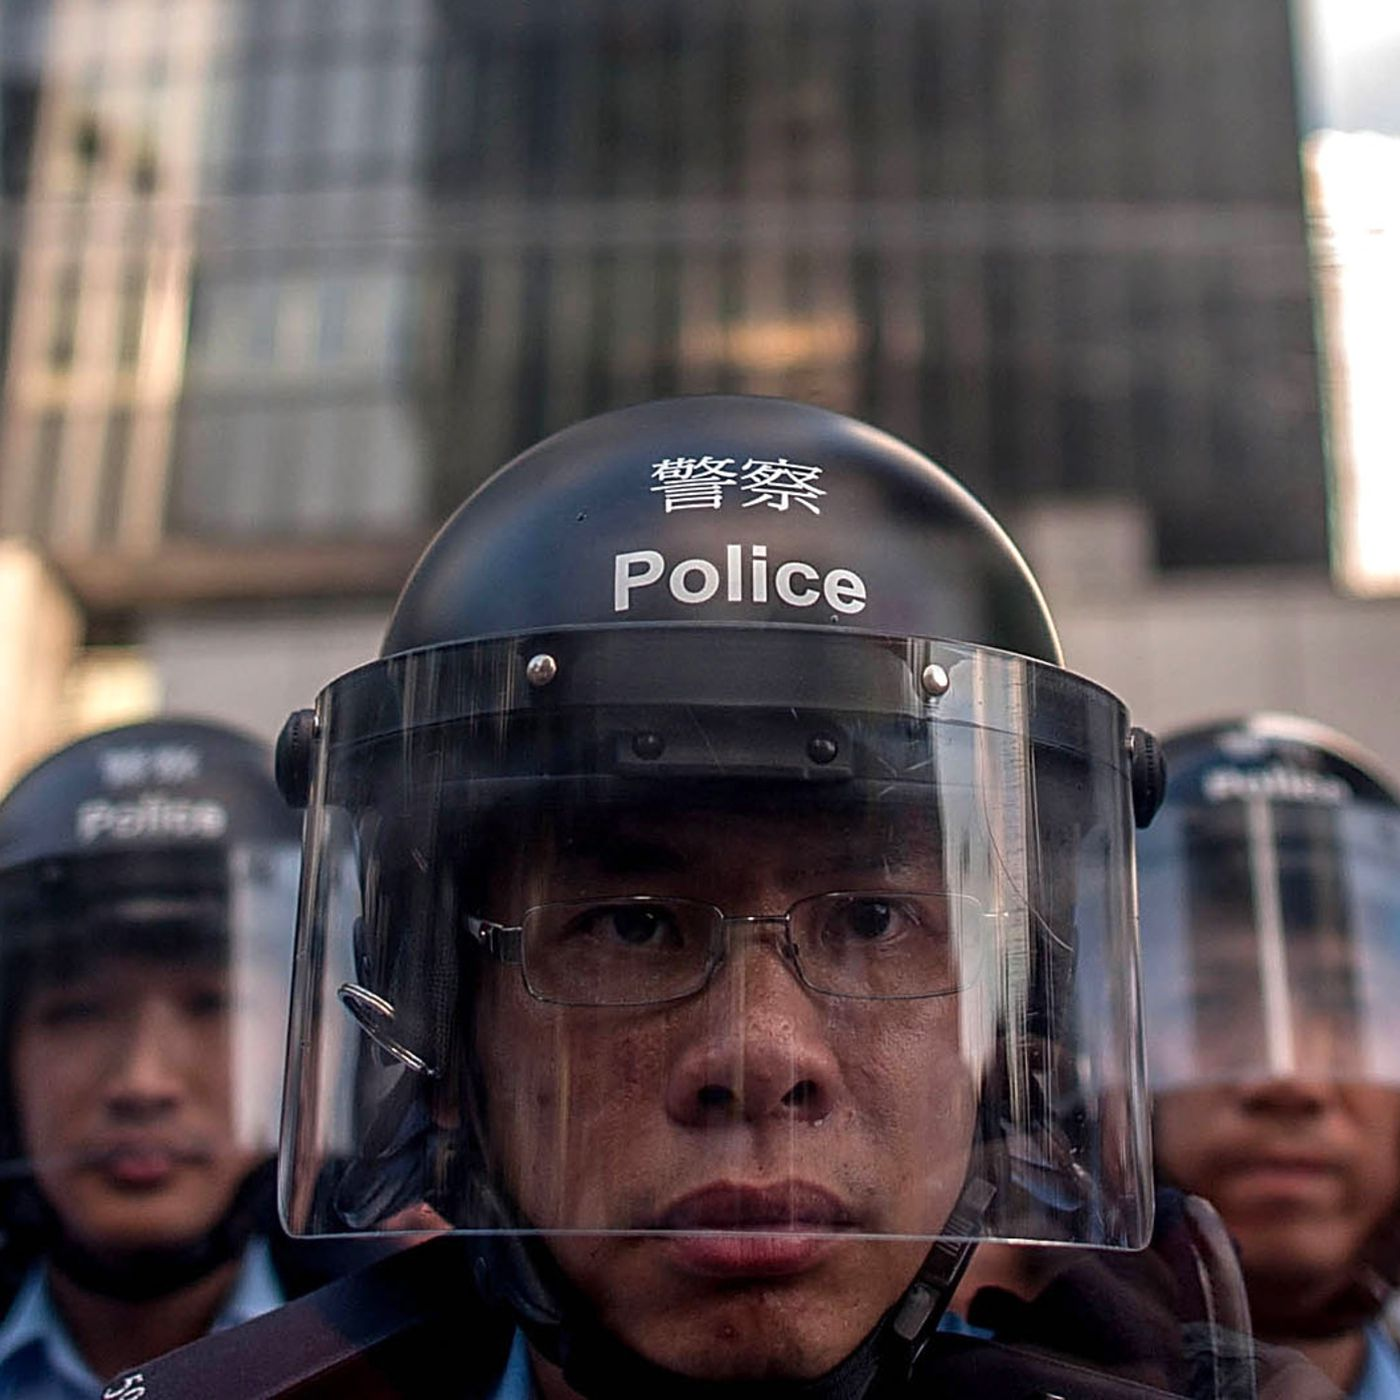helmet: (247, 336, 1195, 1400)
